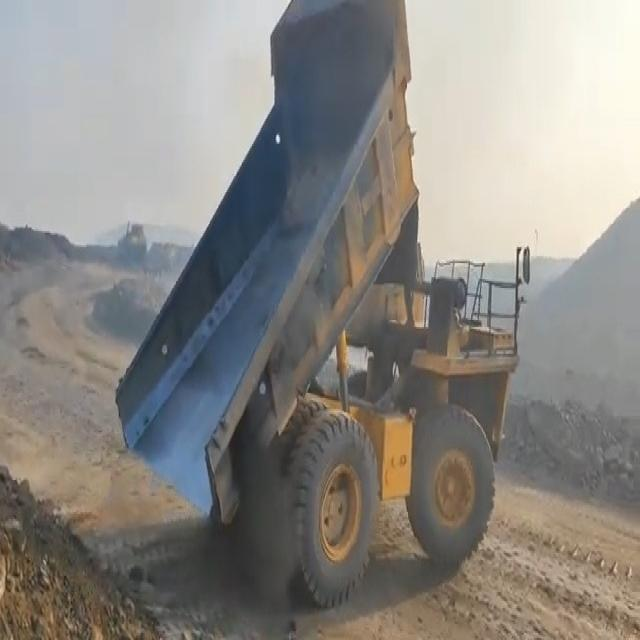dump_truck: (96, 10, 512, 566)
